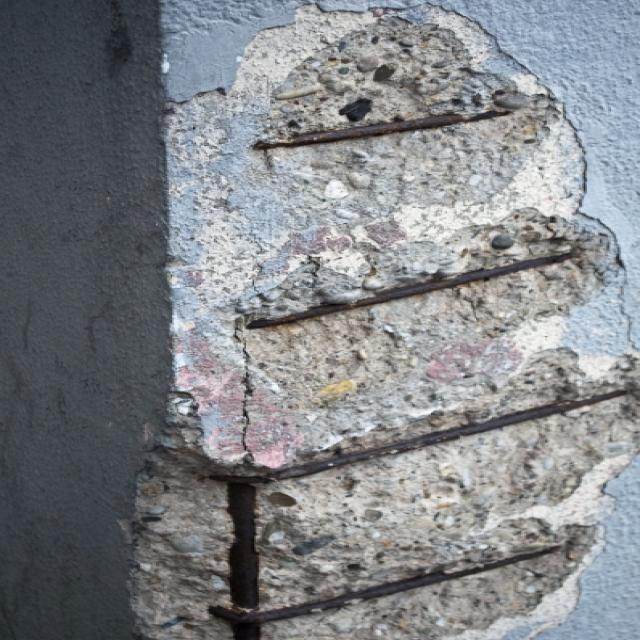Rebar: (132, 4, 640, 640)
